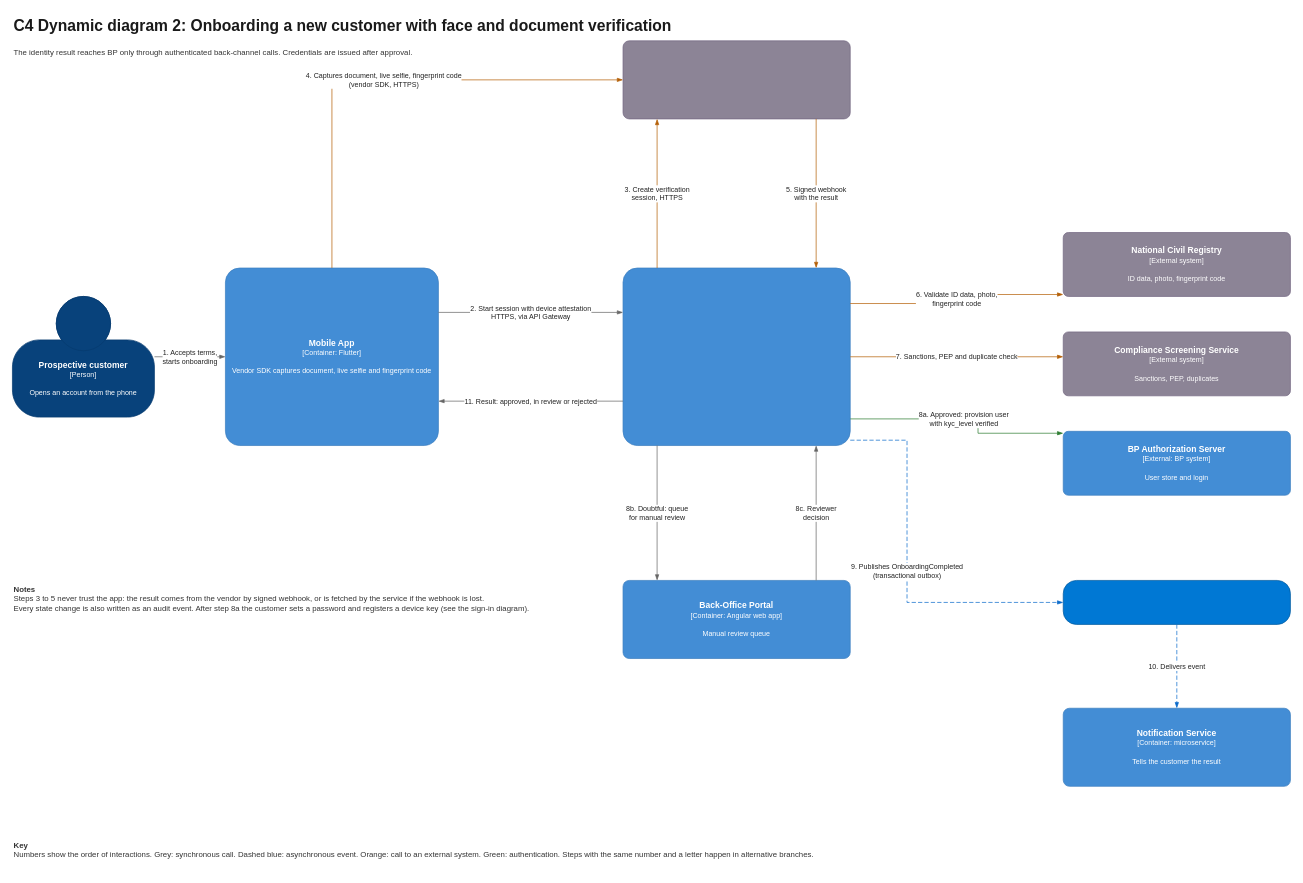
Some shapes in this 1303 by 883 pixel diagram are drawn without their labels. The centre of each missing label's shape, as x and y in pixels:
"Identity Verification Service [External system] Document, liveness, face match" goes at (x=736, y=79).
"Onboarding Service [Container: microservice, REST] State machine and decisions" goes at (x=736, y=356).
"onboarding-events [Container: topic] OnboardingCompleted" goes at (x=1176, y=602).
